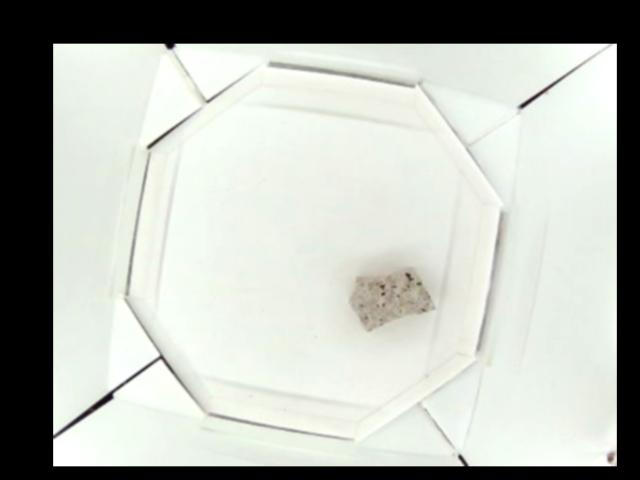China: (346, 266, 438, 330)
